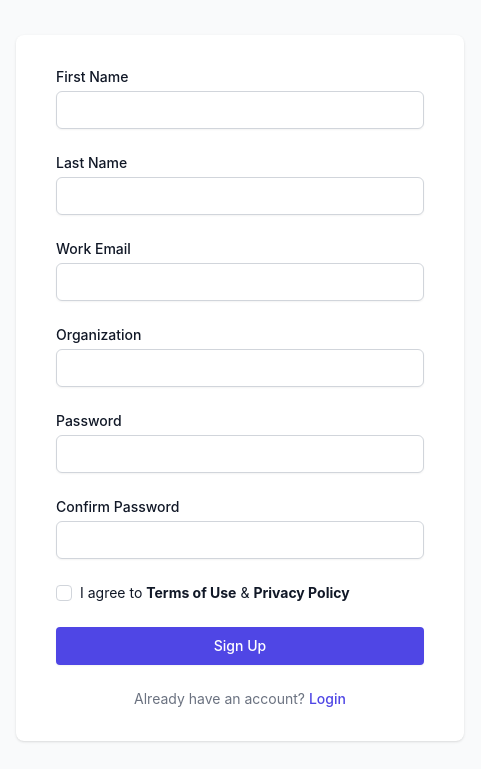
Test: Signup test › verifies the blank field validation of signup page
(page scrolled)
Click the button with id "sign-up". click: (240, 646)
box: 56,627 -> 424,665
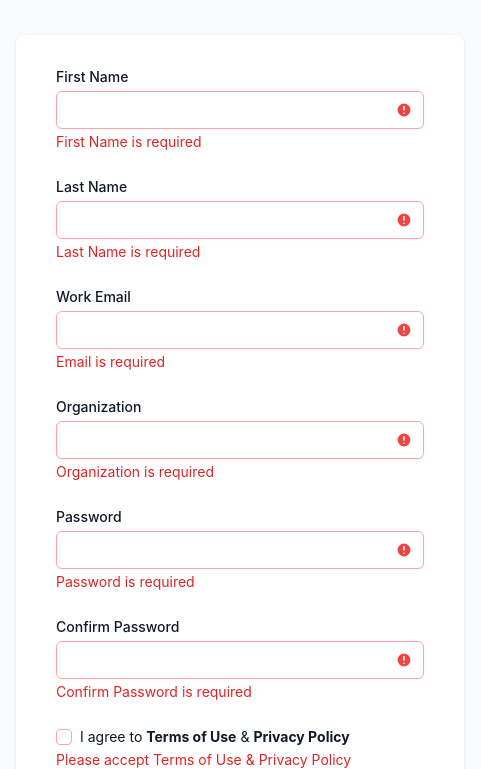
Expected: the text "Please accept Terms of Use & Privacy Policy" is shown, 56,751 -> 351,768
